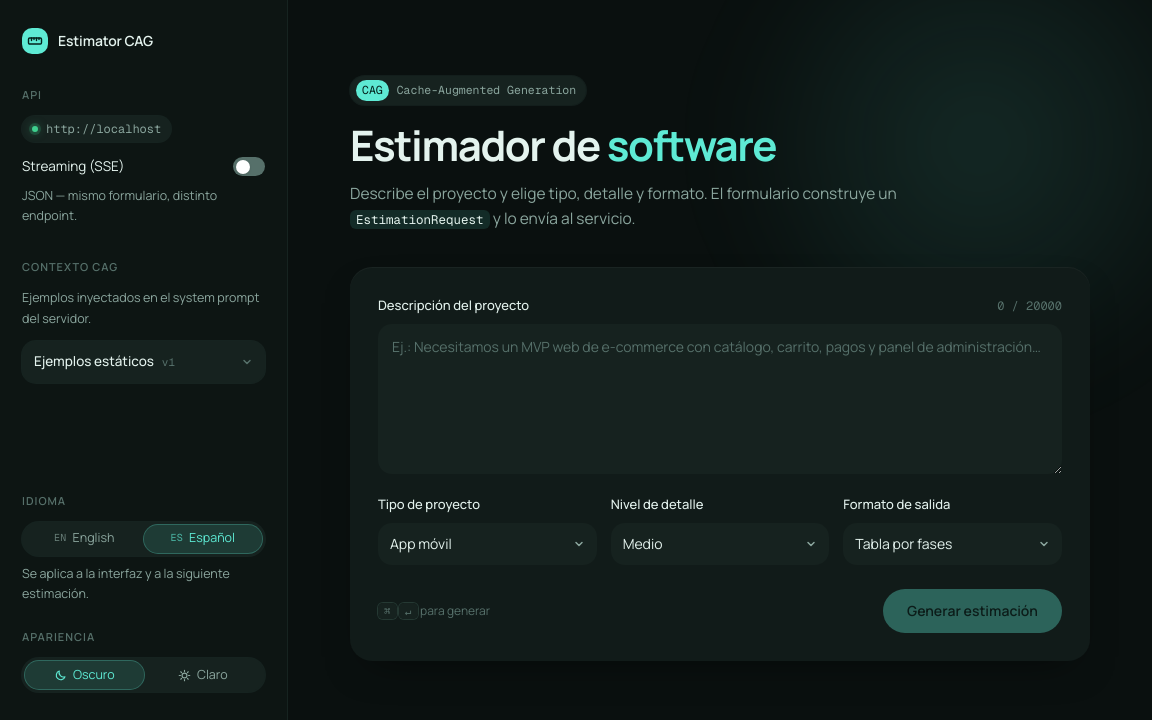
Test: App › switches the visible UI copy when the language changes
Expected: the heading "Estimador de software" is shown, [350, 116, 776, 174]
Expected: the button "Generar estimación" is shown, [883, 589, 1062, 633]
Click the radio button labelled "en English": (84, 538) [54, 529, 114, 546]
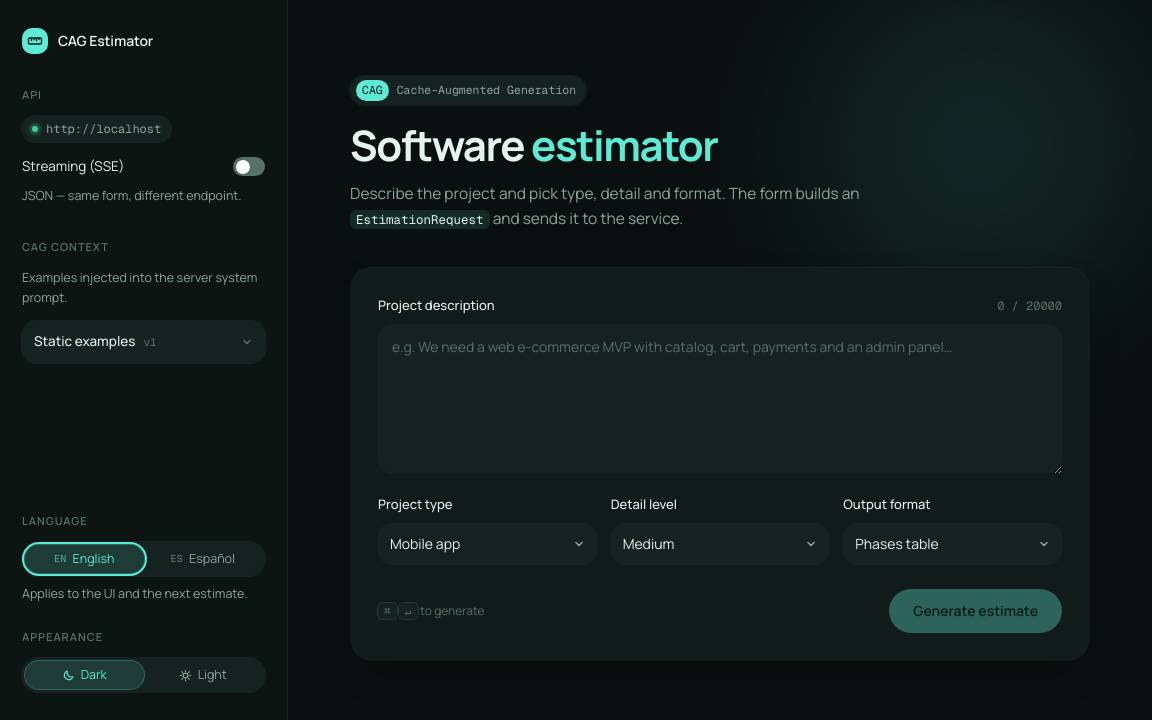
Expected: the heading "Software estimator" is shown, [350, 116, 718, 174]
Expected: the button "Generate estimate" is shown, [889, 589, 1062, 633]
